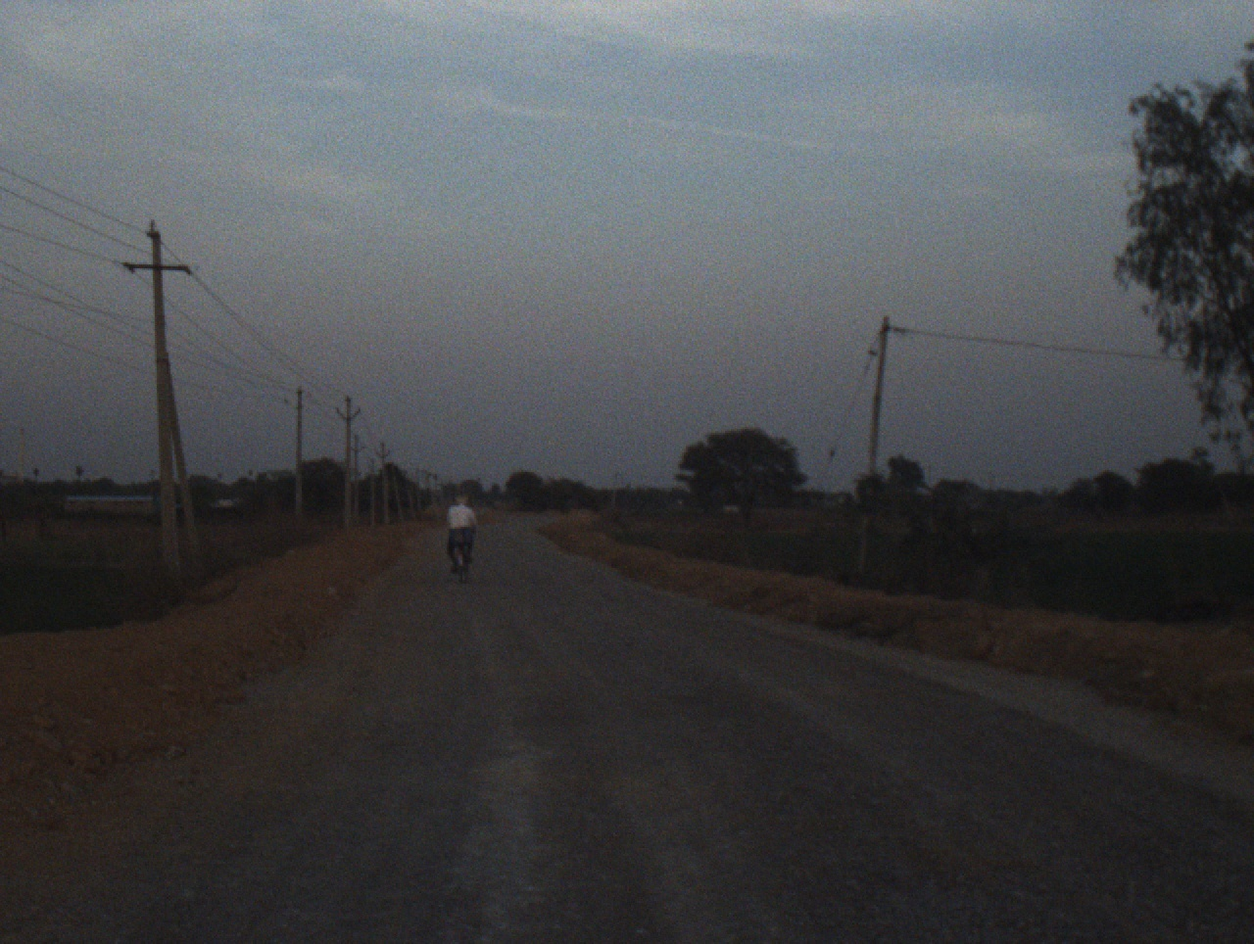bicycle: (449, 524, 470, 587)
rider: (442, 492, 477, 574)
